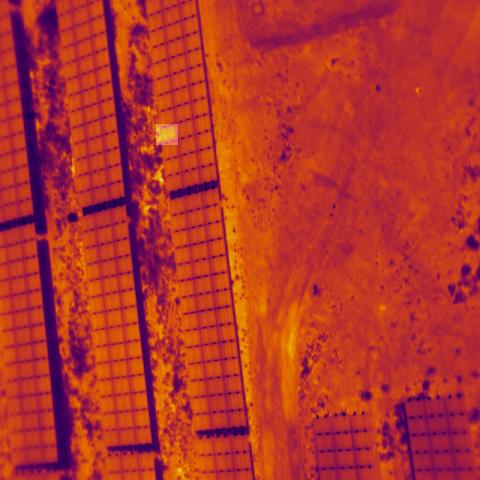fault: (156, 124, 178, 145)
